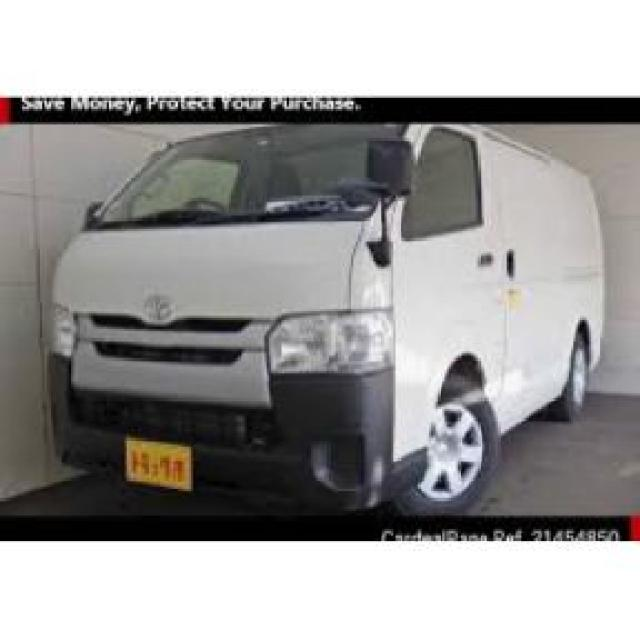Van: (47, 124, 607, 512)
